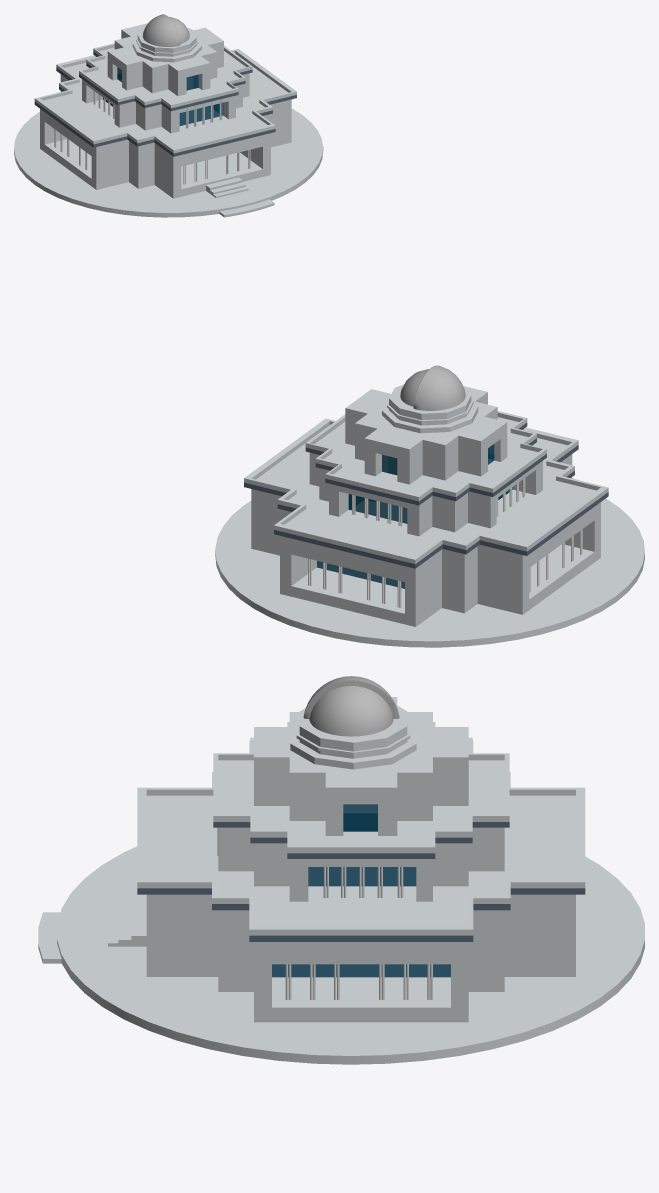
The model's file is IIT Main Building.fbx.
3 renders of one model, top to bottom at view 1: azimuth 30°, elevation 25°; view 2: azimuth 150°, elevation 25°; view 3: azimuth 270°, elevation 25°, orthographic. The views are drawn at different scales.
Visible parts, largest first — view 1: pPlane1, pCylinder47, pCylinder1, pSphere1; view 2: pPlane1, pCylinder47, pCylinder1, pSphere1; view 3: pPlane1, pCylinder47, pCylinder1, pSphere1.
Boxes of the visible parts, x1,y1,x2,y2 form: pPlane1: (34, 23, 296, 198); pCylinder47: (14, 108, 323, 217); pCylinder1: (132, 27, 201, 62); pSphere1: (142, 14, 189, 46); pPlane1: (244, 386, 608, 626); pCylinder47: (215, 478, 644, 647); pCylinder1: (382, 384, 478, 433); pSphere1: (400, 365, 465, 410); pPlane1: (108, 697, 585, 1022); pCylinder47: (38, 846, 644, 1064); pCylinder1: (290, 705, 416, 769); pSphere1: (303, 676, 399, 736).
Bounding box in the file's own units: 67.37 × 16.8 × 37.04.
